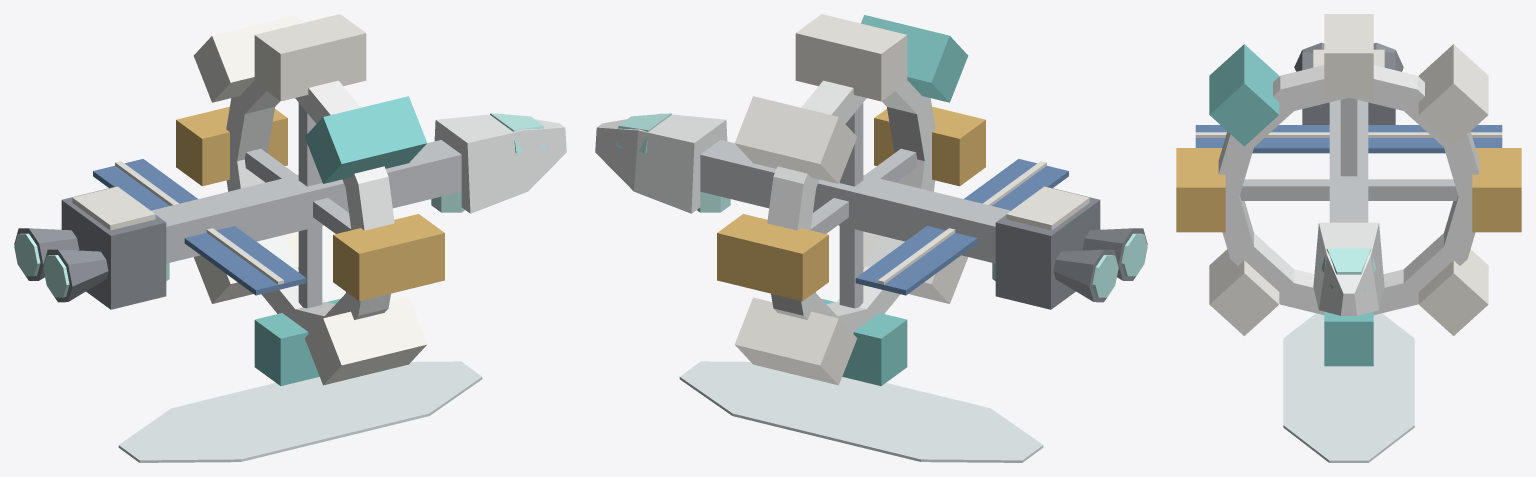
Rendered from trader.glb.
3 renders of one model, left to right at view 1: azimuth 30°, elevation 25°; view 2: azimuth 150°, elevation 25°; view 3: azimuth 270°, elevation 25°, orthographic. The views are drawn at different scales.
Parts seen in each view (by area): view 1: stellar_trader; view 2: stellar_trader; view 3: stellar_trader.
Boxes of the visible parts, bbox=[...] form: stellar_trader: bbox=[14, 14, 566, 462]; stellar_trader: bbox=[595, 14, 1147, 462]; stellar_trader: bbox=[1176, 14, 1521, 462].
Size of the model in its own units: 0.9995 by 0.6898 by 0.6078.
